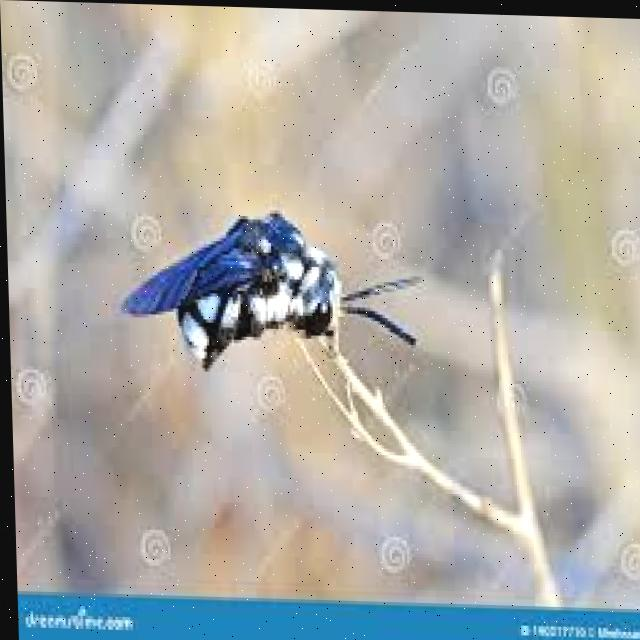Thyreus: (97, 192, 445, 394)
